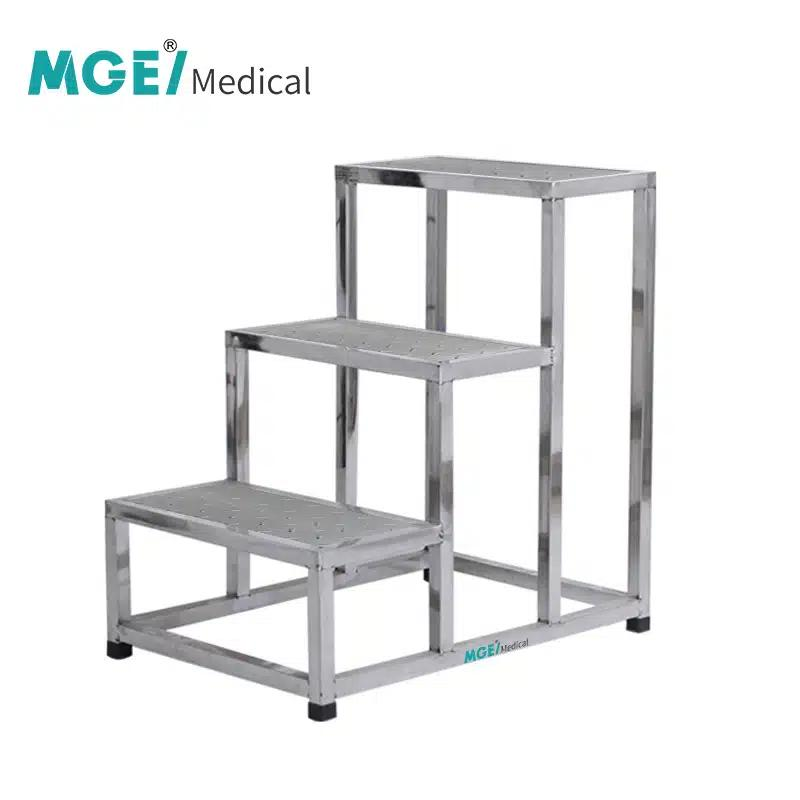stool: (91, 136, 670, 732)
